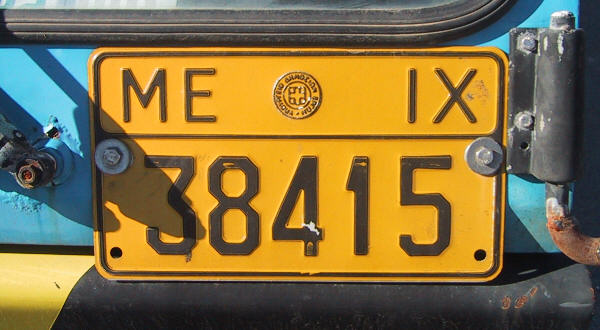license_plate: (89, 45, 504, 282)
